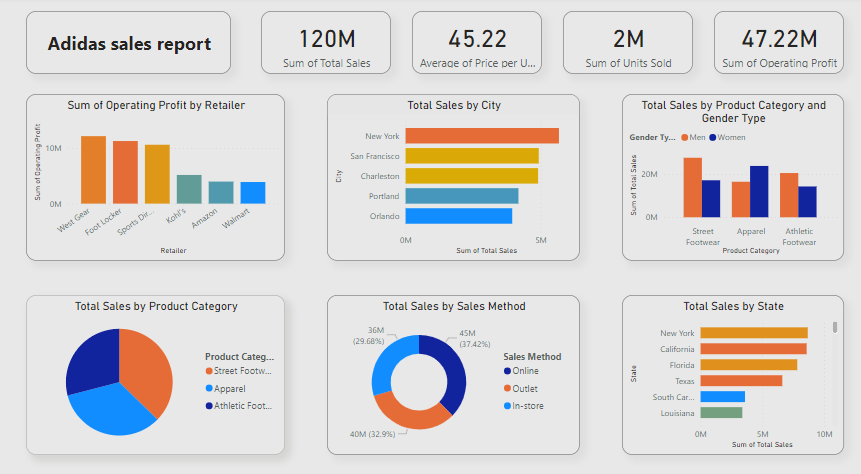

This screenshot's page, from the dashboard's own definition file:
{"tool":"powerbi","page":{"name":"Page 1","canvas":[1280,720],"ordinal":0},"visuals":[{"type":"columnChart","fields":{"Category":["Sales_details.Retailer"],"Y":["Sum(Sales_details.Operating Profit)"]},"box":[49.8,142,379,244.4],"z":0},{"type":"pieChart","title":"Total Sales by Product Category","fields":{"Category":["Sales_details.Product Category"],"Y":["Sum(Sales_details.Total Sales)"]},"box":[49.8,436.1,379,234.1],"z":1000},{"type":"clusteredColumnChart","title":"Total Sales by Product Category and Gender Type","fields":{"Category":["Sales_details.Product Category"],"Y":["Sum(Sales_details.Total Sales)"],"Series":["Sales_details.Gender Type"]},"box":[922,142,324.9,244.4],"z":2000},{"type":"donutChart","title":"Total Sales by Sales Method","fields":{"Category":["Sales_details.Sales Method"],"Y":["Sum(Sales_details.Total Sales)"]},"box":[490.2,436.1,370.2,234.1],"z":3000},{"type":"barChart","title":"Total Sales by City","fields":{"Category":["Sales_details.City"],"Y":["Sum(Sales_details.Total Sales)"]},"box":[490.2,142,370.2,244.4],"z":4000},{"type":"barChart","title":"Total Sales by State","fields":{"Category":["Sales_details.State"],"Y":["Sum(Sales_details.Total Sales)"]},"box":[922,436.1,324.9,234.1],"z":5000},{"type":"card","fields":{"Values":["Sum(Sales_details.Total Sales)"]},"box":[393.7,20.5,190.2,92.2],"z":6000},{"type":"card","fields":{"Values":["Avg(Sales_details.Price per Unit)"]},"box":[614.6,20.5,190.2,92.2],"z":7000},{"type":"card","fields":{"Values":["Sum(Sales_details.Units Sold)"]},"box":[835.6,20.5,190.2,92.2],"z":8000},{"type":"card","fields":{"Values":["Sum(Sales_details.Operating Profit)"]},"box":[1056.6,20.5,190.2,92.2],"z":9000},{"type":"textbox","box":[49.8,20.5,300,92.2],"z":10000}]}

Visuals, with their boxes in screenshot pixels (x1, y1, x2, y2), scaled from the page's 1280x720 canvas onto the 861x474 screenshot:
columnChart - Sales_details.Retailer x Sum(Sales_details.Operating Profit): 33 93 288 254
"Total Sales by Product Category" pieChart: 33 287 288 441
"Total Sales by Product Category and Gender Type" clusteredColumnChart: 620 93 839 254
"Total Sales by Sales Method" donutChart: 330 287 579 441
"Total Sales by City" barChart: 330 93 579 254
"Total Sales by State" barChart: 620 287 839 441
card - Sum(Sales_details.Total Sales): 265 13 393 74
card - Avg(Sales_details.Price per Unit): 413 13 541 74
card - Sum(Sales_details.Units Sold): 562 13 690 74
card - Sum(Sales_details.Operating Profit): 711 13 839 74
textbox: 33 13 235 74
